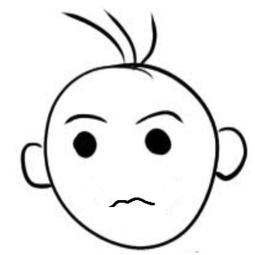ear: (210, 120, 251, 186), (15, 137, 56, 191)
eye: (62, 130, 103, 161), (140, 127, 178, 157)
eyebrow: (131, 108, 186, 124), (60, 110, 112, 126)
line_unsmiling_mouth: (101, 191, 159, 212)
